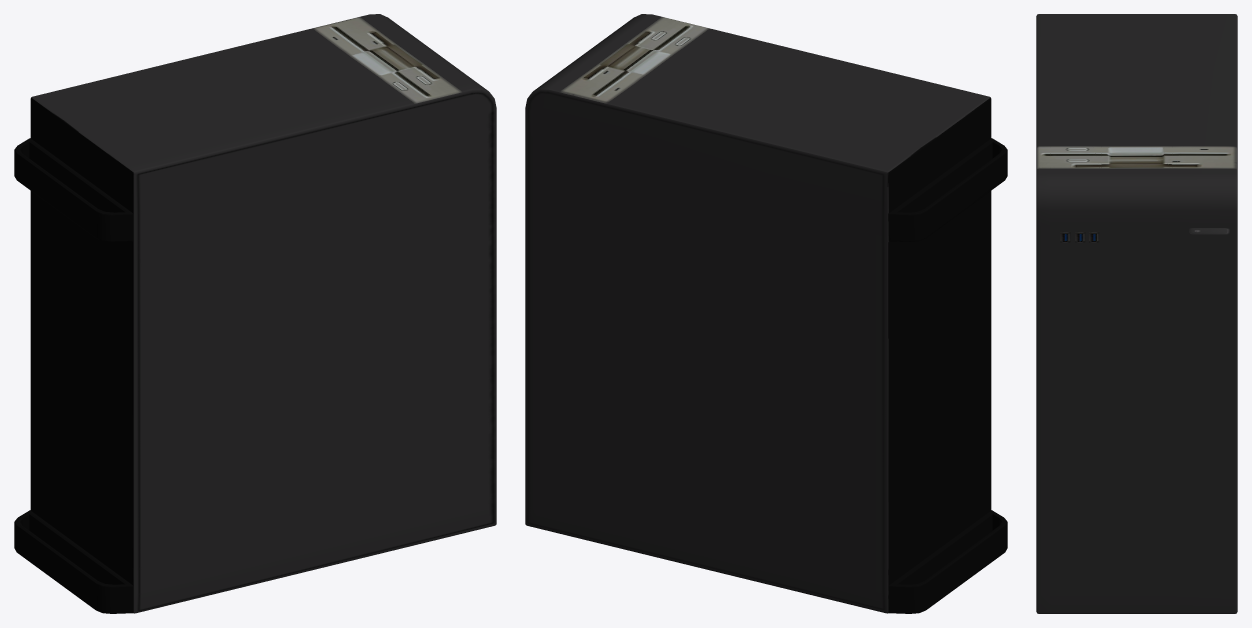
File: SM_Computer.fbx
3 renders of one model, left to right at view 1: azimuth 30°, elevation 25°; view 2: azimuth 150°, elevation 25°; view 3: azimuth 270°, elevation 25°, orthographic. The views are drawn at different scales.
Parts seen in each view (by area): view 1: SM_Computer_LOD0; view 2: SM_Computer_LOD0; view 3: SM_Computer_LOD0.
Boxes of the visible parts, x1,y1,x2,y2 form: SM_Computer_LOD0: (14, 14, 496, 613); SM_Computer_LOD0: (525, 14, 1007, 613); SM_Computer_LOD0: (1036, 14, 1237, 613).
Size of the model in its own units: 43.15 by 19.9 by 46.82.
